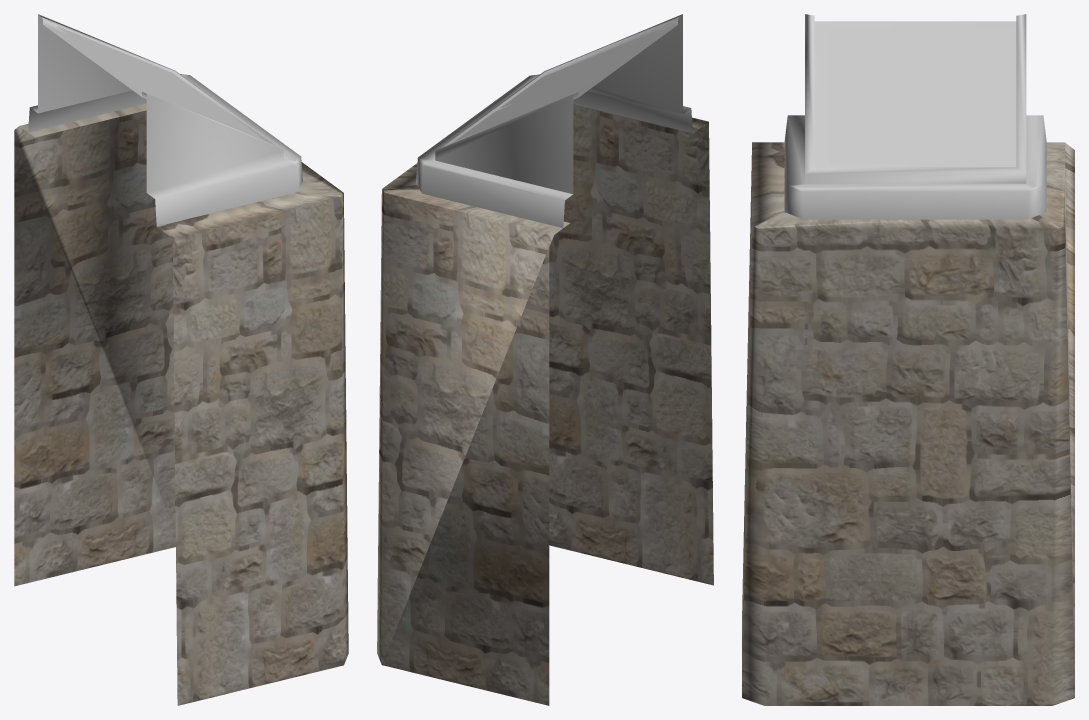
Rendered from CellarEntrance_1.fbx.
3 views of the same model, side by side, from view 1: azimuth 30°, elevation 25°; view 2: azimuth 150°, elevation 25°; view 3: azimuth 270°, elevation 25° (orthographic).
Parts seen in each view (by area): view 1: Mesh; view 2: Mesh; view 3: Mesh.
Boxes of the visible parts, bbox=[...] form: Mesh: bbox=[14, 14, 348, 705]; Mesh: bbox=[377, 14, 713, 705]; Mesh: bbox=[742, 14, 1074, 705].
Size of the model in its own units: 121 by 374 by 188.
